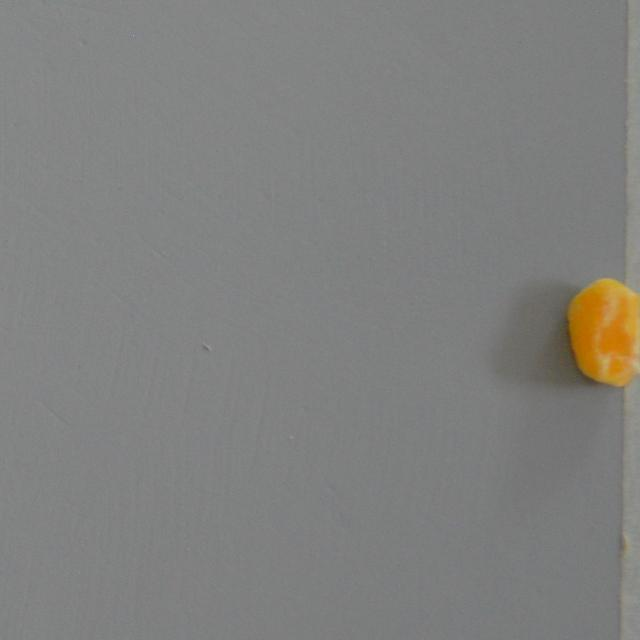pelicula: (562, 272, 640, 394)
